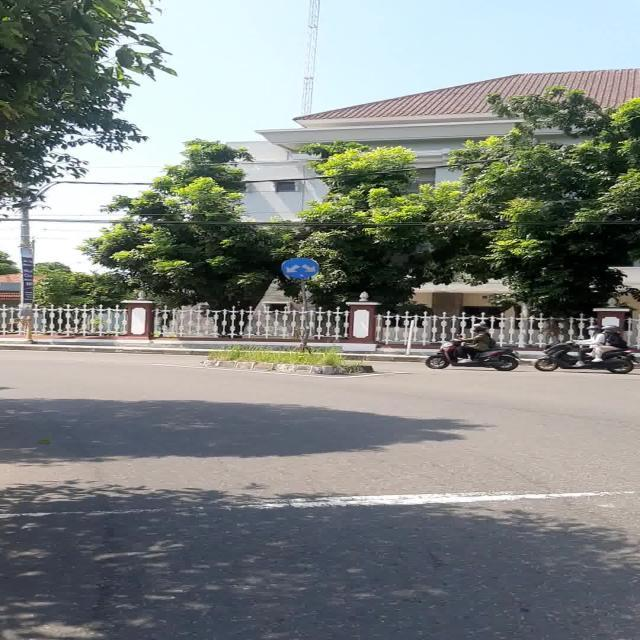Pilih Salah Satu Jalur: (282, 258, 319, 278)
